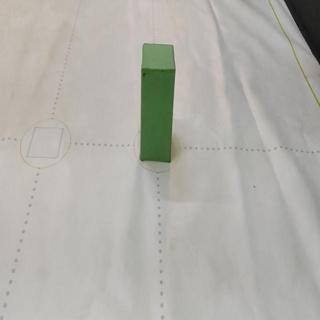greenbox: (139, 39, 175, 164)
